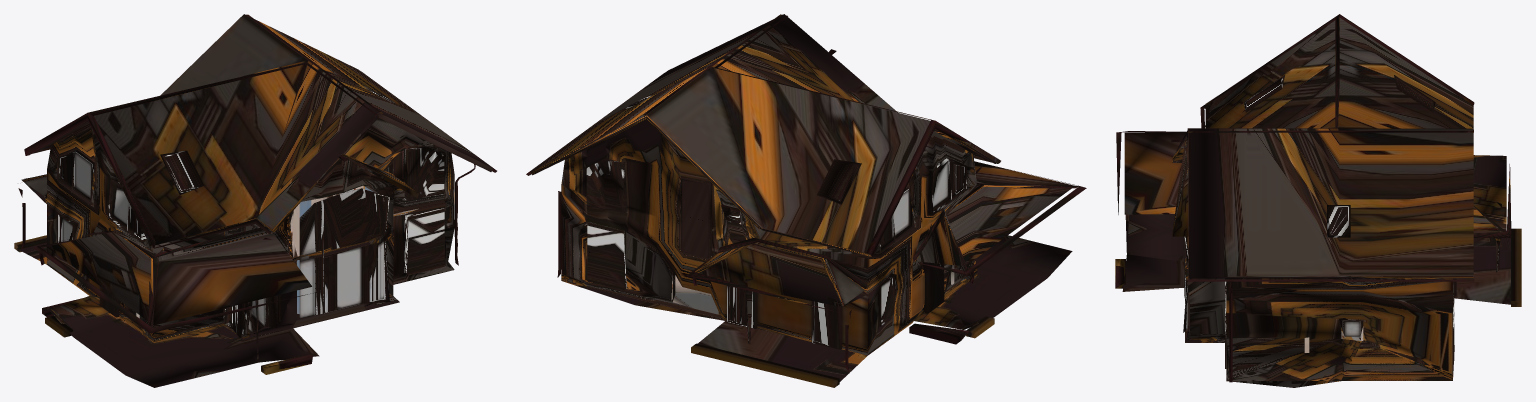
File: finnish-cottage-y0.far.glb
The picture shows the model from 3 angles, left to right: view 1: azimuth 30°, elevation 25°; view 2: azimuth 150°, elevation 25°; view 3: azimuth 270°, elevation 25°; orthographic projection. The views are drawn at different scales.
Visible parts, largest first — view 1: Object_198, Object_120, Object_52, Object_4; view 2: Object_198, Object_120, Object_52, Object_4; view 3: Object_198, Object_52, Object_120.
Part boxes in pixels (x1,y1,x2,y2): Object_198: (16, 14, 493, 387); Object_120: (57, 85, 444, 337); Object_52: (14, 14, 496, 374); Object_4: (136, 185, 418, 318); Object_198: (530, 14, 1074, 383); Object_120: (586, 92, 966, 349); Object_52: (526, 14, 1086, 387); Object_4: (626, 212, 954, 314); Object_198: (1122, 18, 1515, 387); Object_52: (1115, 14, 1521, 382); Object_120: (1183, 75, 1456, 368).
Size of the model in its own units: 9.8 by 4.97 by 8.58.
4 materials, 4 textured.
